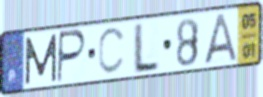8: (175, 17, 201, 69)
A: (203, 11, 239, 66)
C: (97, 25, 128, 77)
L: (131, 21, 162, 77)
M: (24, 32, 59, 87)
P: (55, 28, 88, 85)
